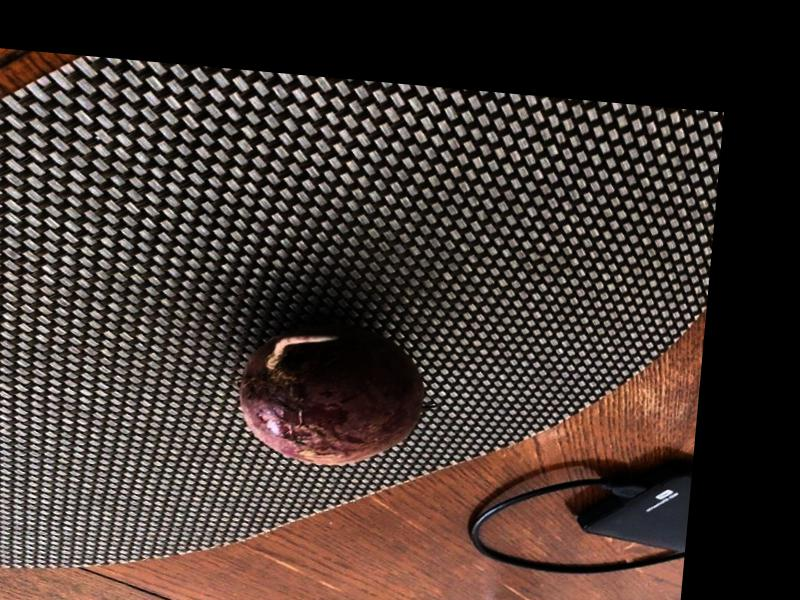Beet: (234, 317, 430, 472)
